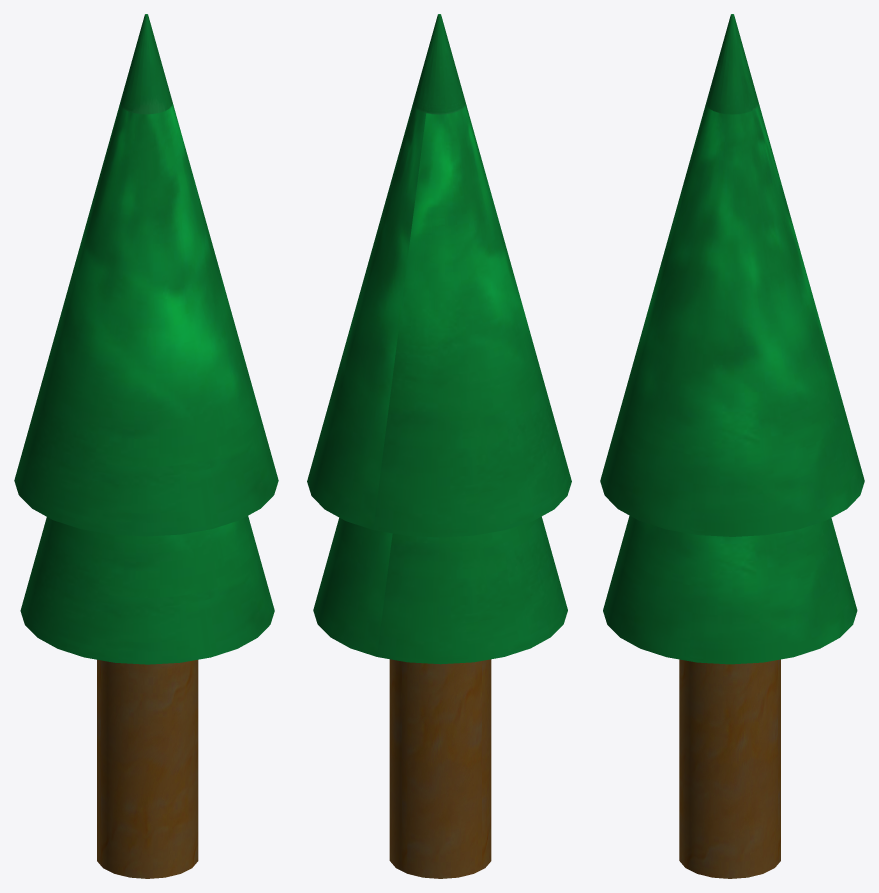
Rendered from arvore4.FBX.
3 views of the same model, side by side, from view 1: azimuth 30°, elevation 25°; view 2: azimuth 150°, elevation 25°; view 3: azimuth 270°, elevation 25° (orthographic).
Visible parts, largest first — view 1: Cone001; view 2: Cone001; view 3: Cone001.
Boxes of the visible parts, <box> form: Cone001: <box>14,14,278,878</box>; Cone001: <box>307,14,571,878</box>; Cone001: <box>600,14,864,878</box>.
Bounding box in the file's own units: 15.92 × 55.92 × 15.92.
2 materials, 2 textured.
